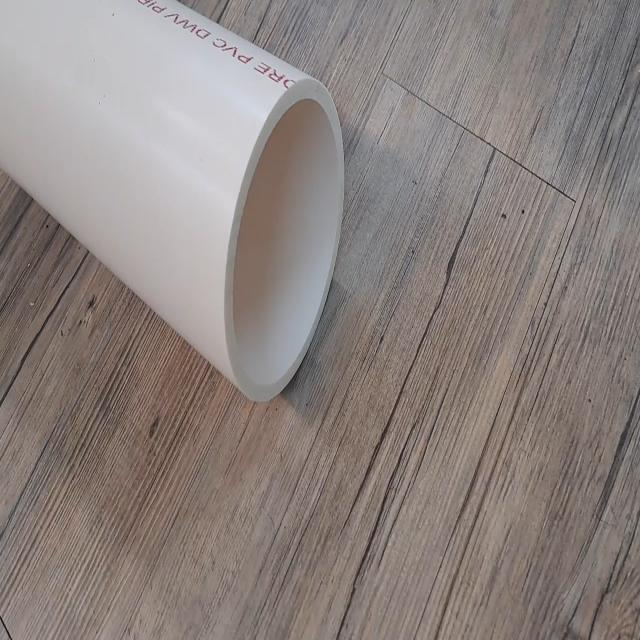CORAL: (0, 0, 348, 413)
